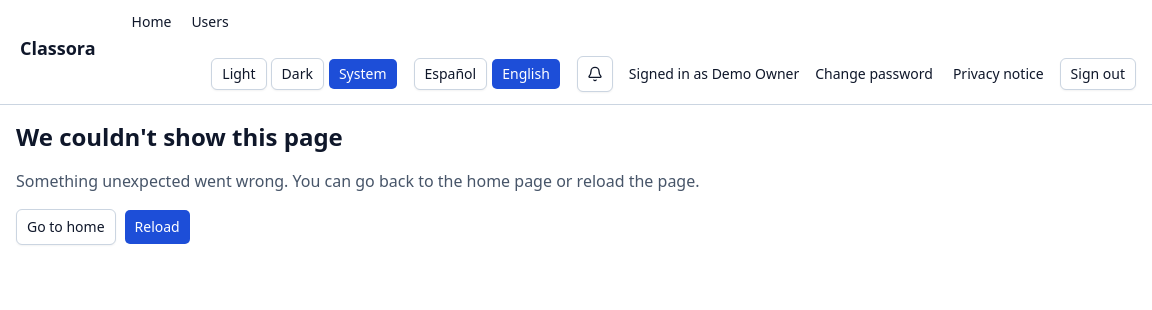
Scenario: route-level boundary › keeps the header switchers usable after a page error
This screenshot has width=1152, height=310.
What coordinates should you click on to do the following:
click the button "Español"
I would click on:
 (450, 74)
Its box is [414, 58, 487, 90].
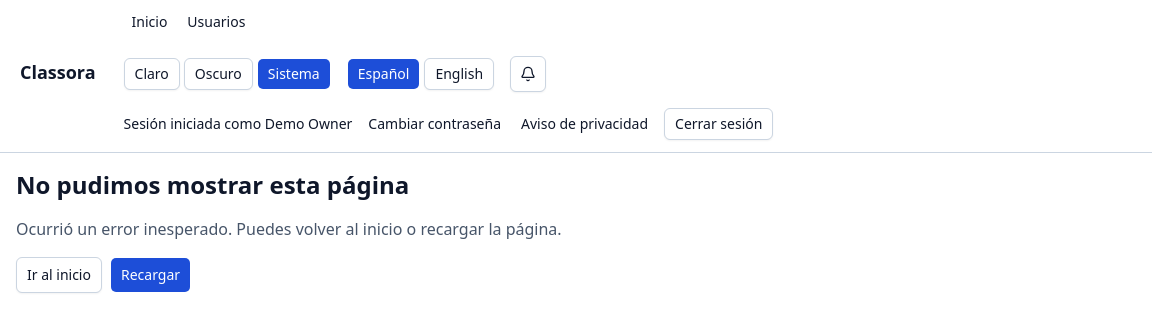
Expected: the heading "No pudimos mostrar esta página" is shown, [16, 169, 409, 201]
